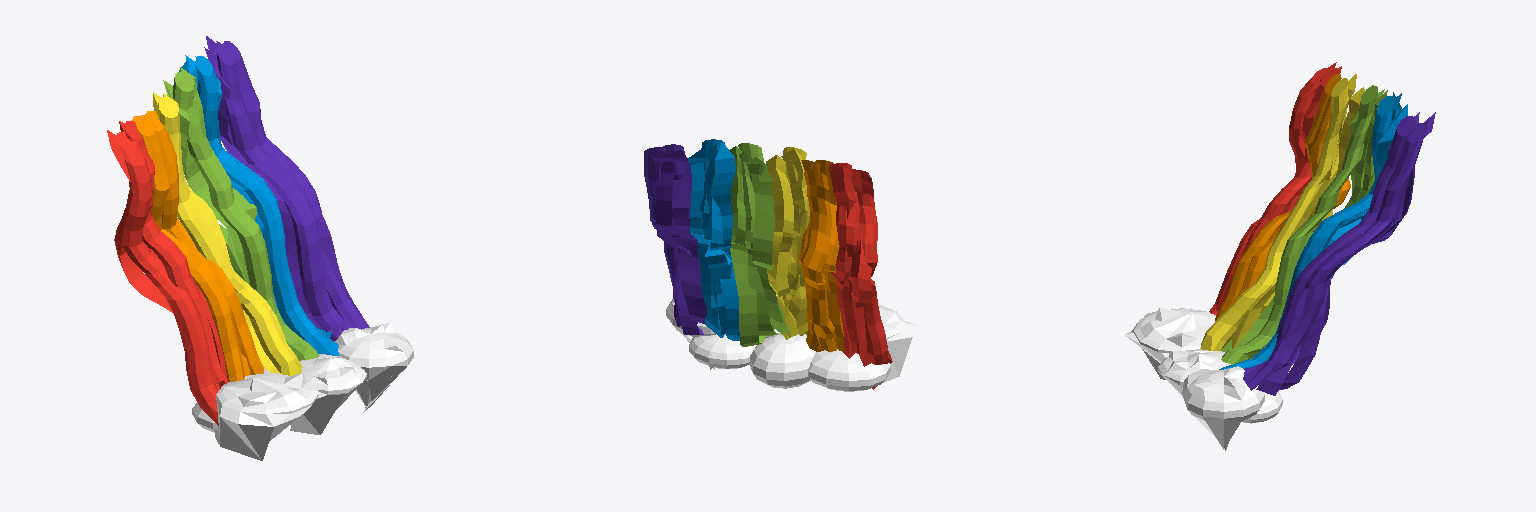
3 views of the same model, side by side, from view 1: azimuth 30°, elevation 25°; view 2: azimuth 150°, elevation 25°; view 3: azimuth 270°, elevation 25° (orthographic).
Parts seen in each view (by area): view 1: group[number redacted], group[number redacted], group[number redacted], group[number redacted], group[number redacted], group[number redacted], group[number redacted], group[number redacted], group[number redacted], group[number redacted], group[number redacted], group[number redacted] (+7 smaller); view 2: group[number redacted], group[number redacted], group[number redacted], group[number redacted], group[number redacted], group[number redacted], group[number redacted], group[number redacted], group[number redacted], group[number redacted], group[number redacted], group[number redacted] (+13 smaller); view 3: group[number redacted], group[number redacted], group[number redacted], group[number redacted], group[number redacted], group[number redacted], group[number redacted], group[number redacted], group[number redacted], group[number redacted], group[number redacted], group[number redacted] (+9 smaller).
Part boxes in pixels (left/top/right/bottom): group[number redacted]: left=217, top=46, right=353, bottom=340; group[number redacted]: left=115, top=131, right=218, bottom=425; group[number redacted]: left=195, top=56, right=339, bottom=355; group[number redacted]: left=215, top=373, right=318, bottom=460; group[number redacted]: left=172, top=72, right=319, bottom=360; group[number redacted]: left=158, top=97, right=302, bottom=375; group[number redacted]: left=136, top=115, right=244, bottom=381; group[number redacted]: left=334, top=323, right=413, bottom=412; group[number redacted]: left=222, top=41, right=369, bottom=329; group[number redacted]: left=145, top=111, right=263, bottom=374; group[number redacted]: left=290, top=354, right=366, bottom=434; group[number redacted]: left=124, top=121, right=227, bottom=384; group[number redacted]: left=801, top=171, right=836, bottom=351; group[number redacted]: left=766, top=155, right=798, bottom=339; group[number redacted]: left=730, top=146, right=765, bottom=346; group[number redacted]: left=749, top=334, right=815, bottom=388; group[number redacted]: left=671, top=150, right=707, bottom=324; group[number redacted]: left=745, top=157, right=790, bottom=337; group[number redacted]: left=710, top=142, right=739, bottom=340; group[number redacted]: left=848, top=169, right=892, bottom=364; group[number redacted]: left=808, top=349, right=890, bottom=391; group[number redacted]: left=652, top=149, right=703, bottom=334; group[number redacted]: left=688, top=149, right=724, bottom=337; group[number redacted]: left=850, top=171, right=876, bottom=389; group[number redacted]: left=1243, top=123, right=1426, bottom=390; group[number redacted]: left=1200, top=78, right=1348, bottom=350; group[number redacted]: left=1221, top=85, right=1377, bottom=364; group[number redacted]: left=1182, top=366, right=1264, bottom=450; group[number redacted]: left=1125, top=308, right=1215, bottom=379; group[number redacted]: left=1219, top=96, right=1394, bottom=369; group[number redacted]: left=1244, top=116, right=1415, bottom=375; group[number redacted]: left=1216, top=67, right=1338, bottom=311; group[number redacted]: left=1215, top=74, right=1341, bottom=320; group[number redacted]: left=1209, top=68, right=1328, bottom=315; group[number redacted]: left=1259, top=112, right=1435, bottom=390; group[number redacted]: left=1158, top=349, right=1230, bottom=401.
Bounding box in the file's own units: 1.31 × 1.6 × 1.42.